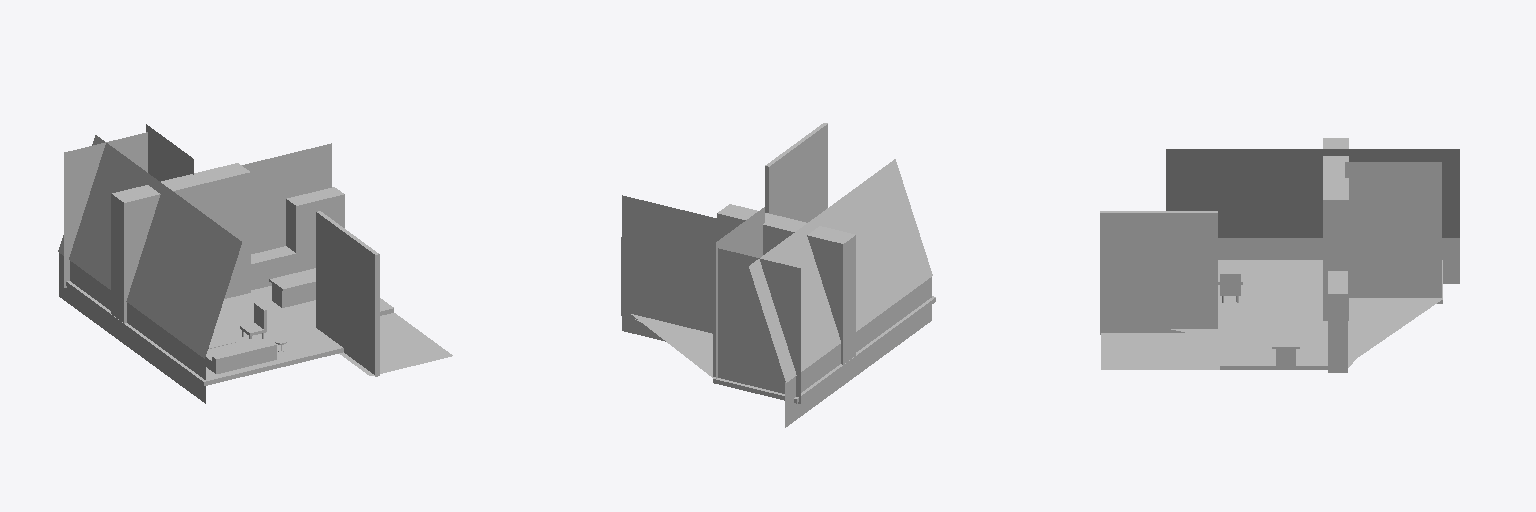
File: aprtment blockout.obj
3 renders of one model, left to right at view 1: azimuth 30°, elevation 25°; view 2: azimuth 150°, elevation 25°; view 3: azimuth 270°, elevation 25°, orthographic.
Visible parts, largest first — view 1: Plane.006, Cube.008, Cube.019, Cube.010, Plane.001, Plane.005, Plane.009, Cube.002, Plane, Plane.008, Cube.003, Cube.006 (+3 smaller); view 2: Plane.006, Plane.001, Plane.009, Cube.008, Plane.005, Cube.019, Cube.010, Plane.008; view 3: Plane.006, Cube.019, Cube.010, Plane.008, Plane, Cube.008, Plane.005, Cube.002, Cube.
Boxes of the visible parts, x1=… form: Plane.006: x1=58, y1=135, x2=241, y2=358; Cube.008: x1=111, y1=163, x2=250, y2=323; Cube.019: x1=316, y1=211, x2=379, y2=376; Cube.010: x1=66, y1=281, x2=393, y2=385; Plane.001: x1=242, y1=143, x2=331, y2=253; Plane.005: x1=59, y1=253, x2=205, y2=403; Plane.009: x1=64, y1=132, x2=147, y2=287; Cube.002: x1=286, y1=187, x2=344, y2=272; Plane: x1=339, y1=313, x2=452, y2=375; Plane.008: x1=146, y1=124, x2=193, y2=181; Cube.003: x1=251, y1=246, x2=295, y2=289; Cube.006: x1=212, y1=342, x2=276, y2=373; Plane.006: x1=749, y1=159, x2=932, y2=382; Plane.001: x1=622, y1=195, x2=739, y2=341; Plane.009: x1=713, y1=247, x2=800, y2=403; Cube.008: x1=717, y1=204, x2=855, y2=364; Plane.005: x1=785, y1=277, x2=931, y2=427; Cube.019: x1=765, y1=123, x2=827, y2=222; Cube.010: x1=631, y1=296, x2=935, y2=403; Plane.008: x1=716, y1=207, x2=764, y2=378; Plane.006: x1=1166, y1=149, x2=1459, y2=237; Cube.019: x1=1100, y1=211, x2=1217, y2=334; Cube.010: x1=1171, y1=260, x2=1442, y2=369; Plane.008: x1=1345, y1=162, x2=1441, y2=297; Plane: x1=1101, y1=333, x2=1219, y2=369; Cube.008: x1=1323, y1=138, x2=1348, y2=320; Plane.005: x1=1218, y1=238, x2=1459, y2=283; Cube.002: x1=1328, y1=271, x2=1347, y2=372; Cube: x1=1272, y1=304, x2=1299, y2=348.
Size of the model in its own units: 107 by 72.59 by 148.